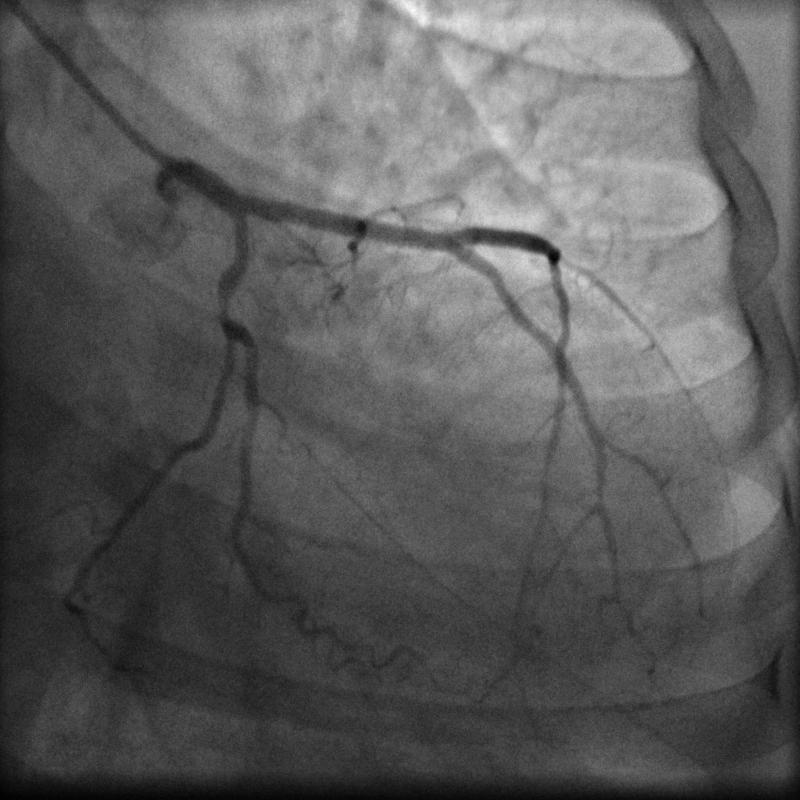Stenosis: (211, 283, 236, 321)
